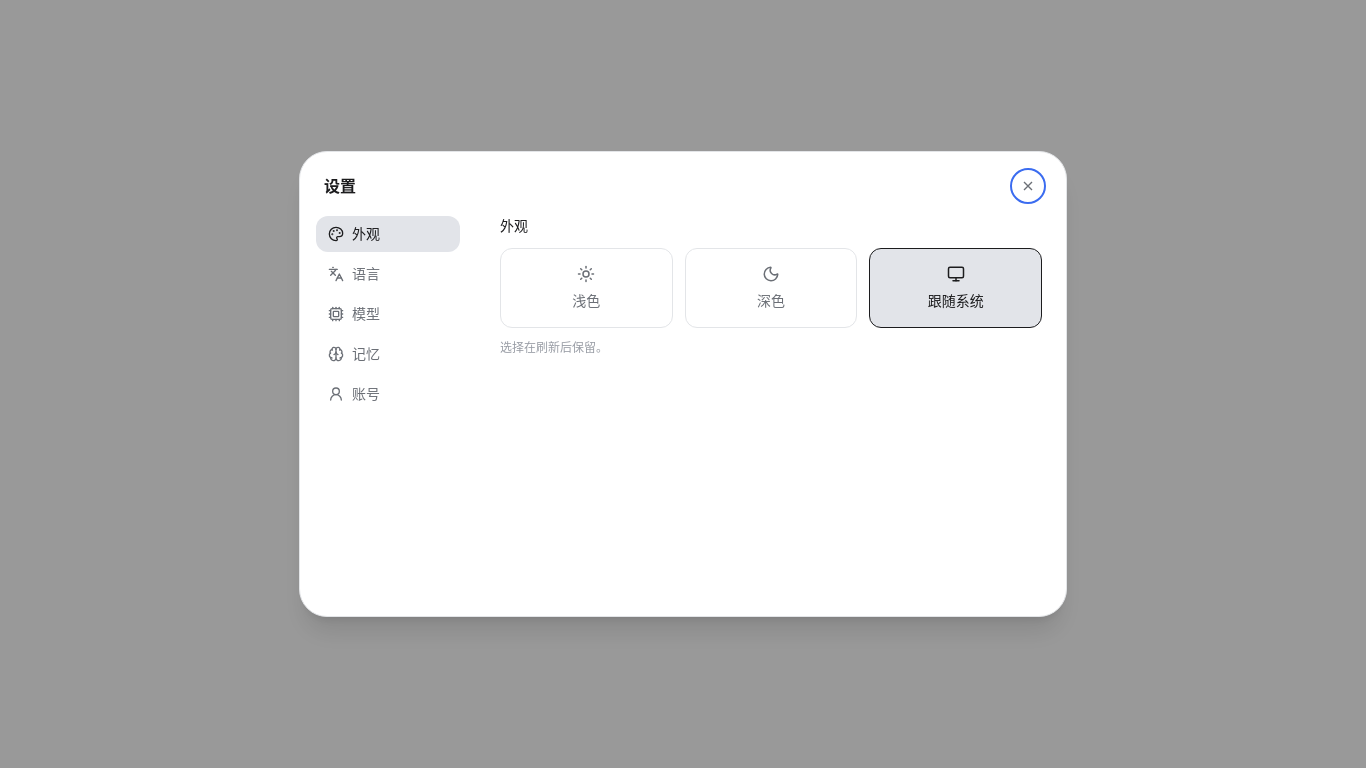
Scenario: MemoryPane › shows the empty state
This screenshot has width=1366, height=768.
Click the button "记忆": click(388, 354) top-left (316, 336), bottom-right (460, 372)
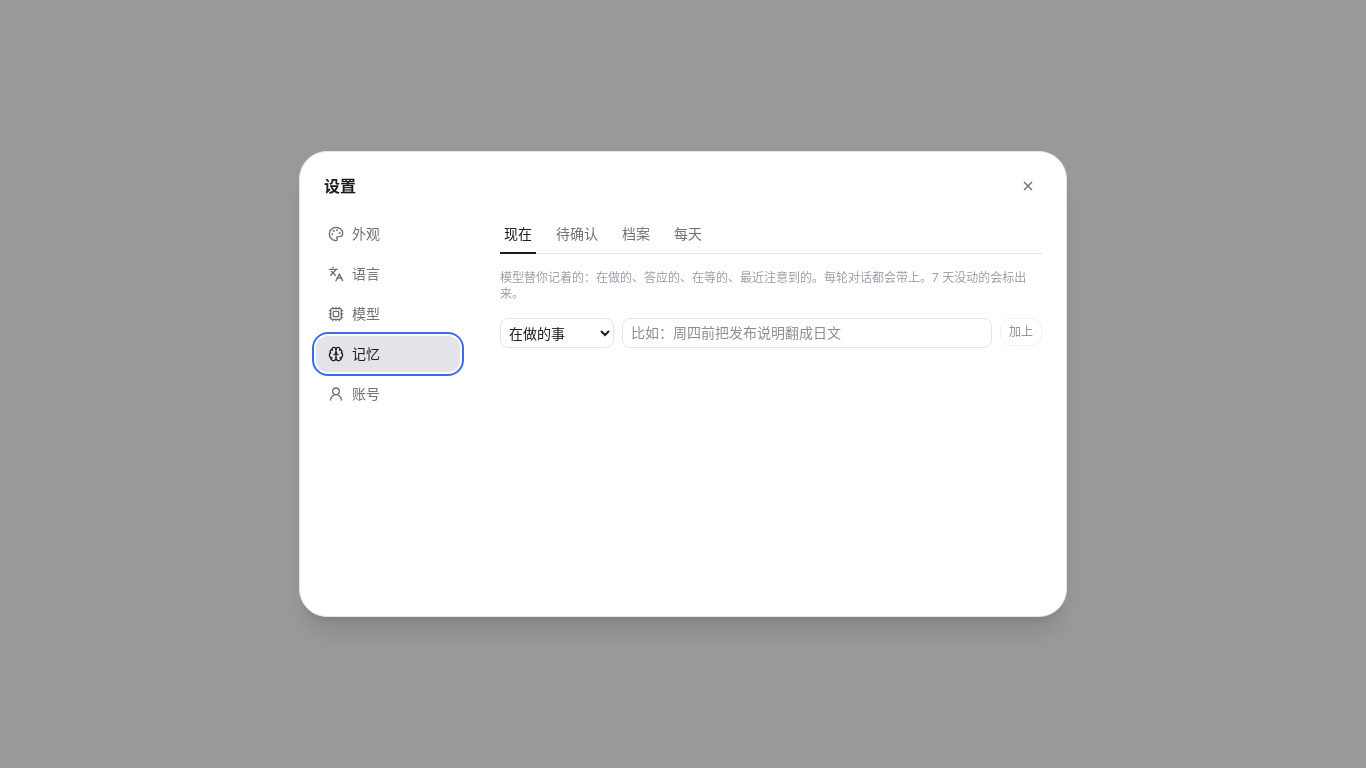
Click the tab "档案": click(636, 235) top-left (618, 216), bottom-right (654, 254)
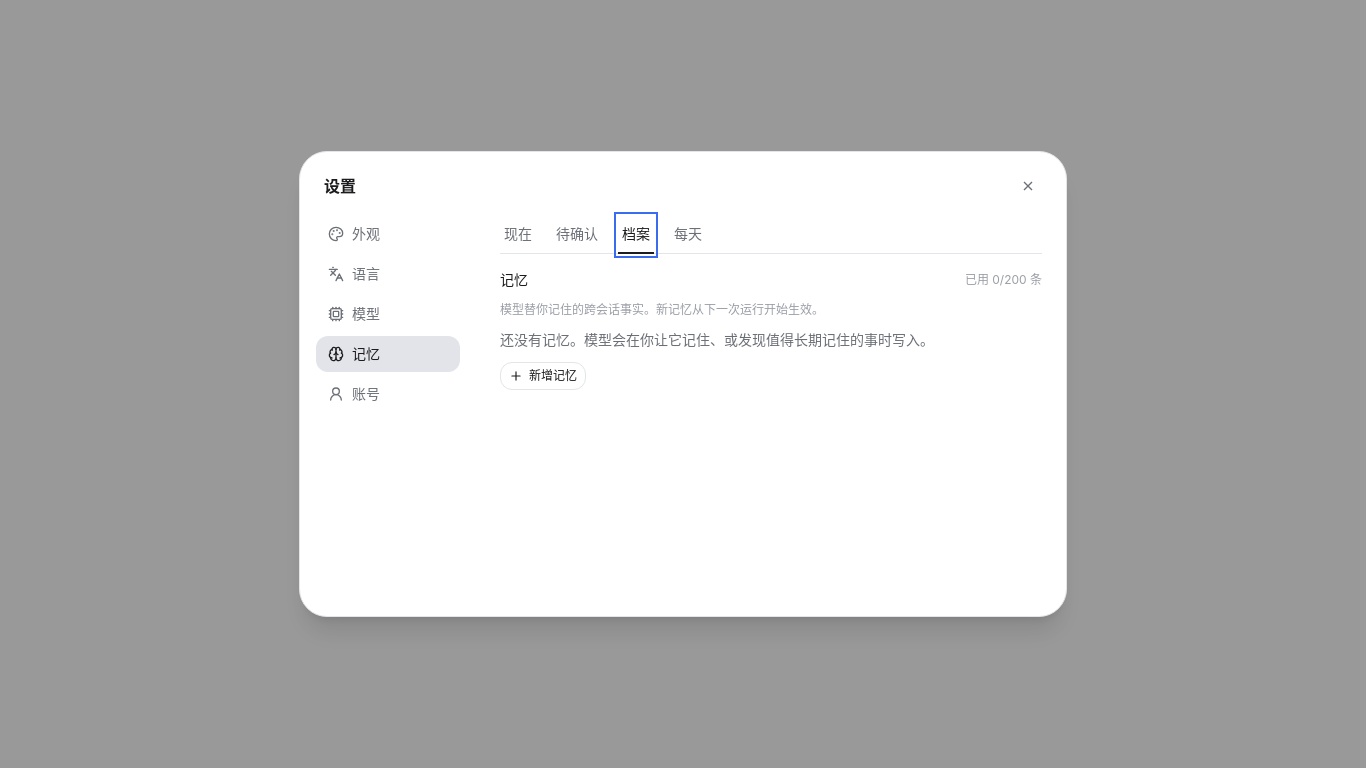
Expected: the text "还没有记忆。模型会在你让它记住、或发现值得长期记住的事时写入。" is shown, top-left (500, 331), bottom-right (934, 348)
